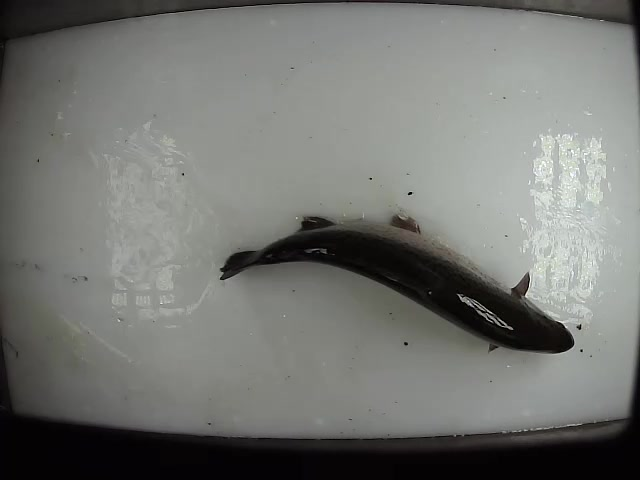fish: (219, 213, 575, 356)
